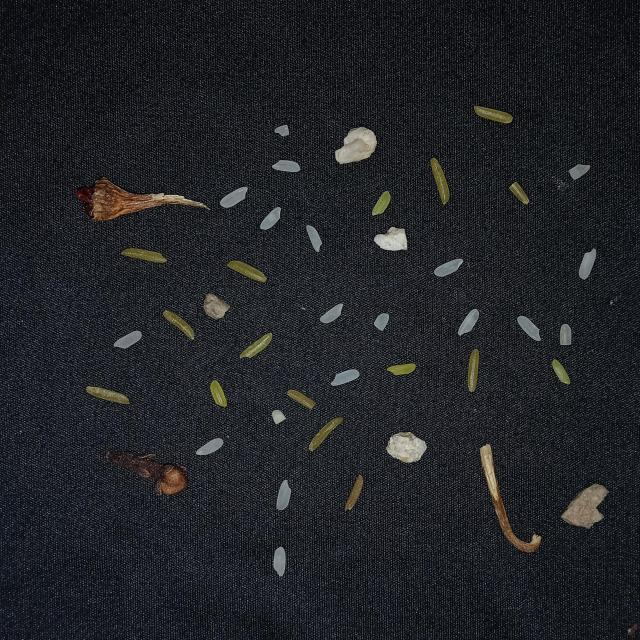Broken: (308, 418, 344, 450), (163, 310, 196, 340), (430, 157, 450, 205), (86, 385, 130, 405), (228, 260, 267, 282), (240, 333, 272, 358), (121, 248, 168, 263), (345, 474, 363, 511), (474, 106, 513, 123), (287, 389, 317, 410), (468, 349, 480, 392), (372, 190, 391, 216), (552, 359, 571, 385), (210, 381, 228, 406), (509, 182, 529, 204), (569, 164, 591, 180), (387, 363, 416, 375), (374, 313, 389, 331), (560, 324, 572, 345), (272, 410, 286, 424), (274, 125, 290, 136)
Full: (517, 316, 542, 341), (578, 248, 596, 280), (434, 258, 464, 277), (220, 187, 248, 207), (458, 309, 479, 335), (260, 207, 281, 230), (276, 480, 292, 510), (330, 370, 360, 386), (320, 303, 344, 323), (114, 331, 142, 348), (306, 225, 323, 253), (196, 438, 223, 455), (273, 546, 286, 577), (272, 160, 301, 172)
